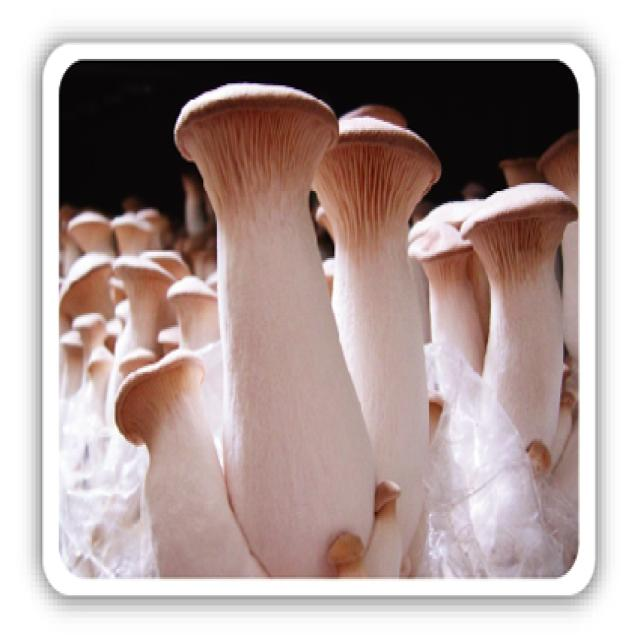Pleurotus eryngii: (174, 81, 378, 574), (315, 113, 438, 563), (463, 180, 580, 457), (117, 357, 262, 579)
